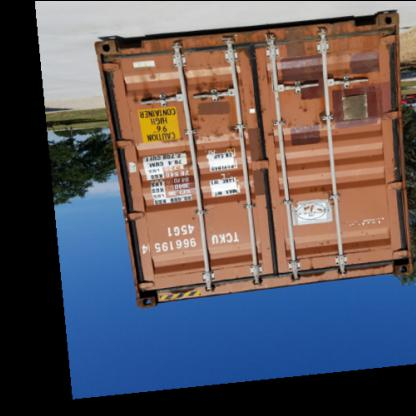Damage: (198, 37, 265, 59), (129, 68, 161, 106), (181, 116, 235, 138), (284, 102, 326, 130), (190, 63, 218, 103)
